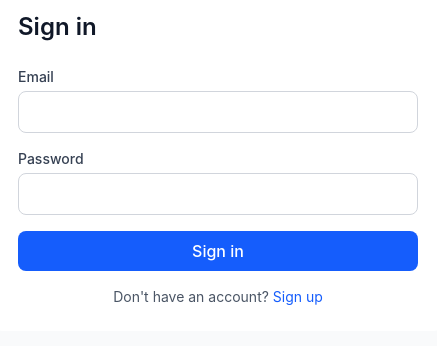
Test: LoginPage › shows password required error when password is empty
The image size is (437, 346).
Type "test@example.com" into the field labelled "Email" at (218, 112), box x1=18 y1=91 x2=418 y2=133
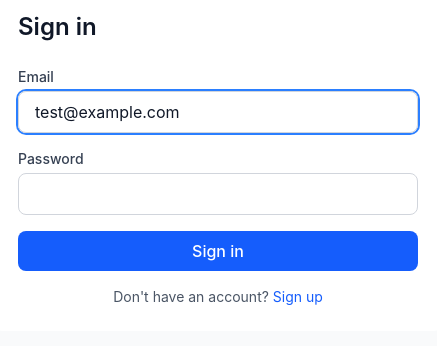
Click the button "Sign in" at (218, 251), box x1=18 y1=231 x2=418 y2=271
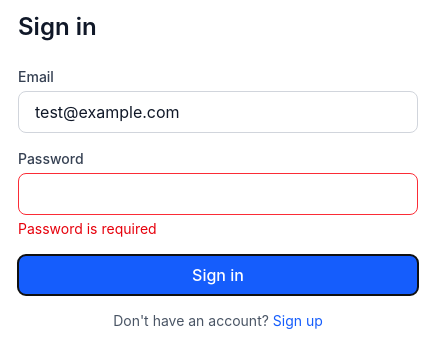
Now the text "Password is required" is shown, box x1=18 y1=220 x2=157 y2=237
